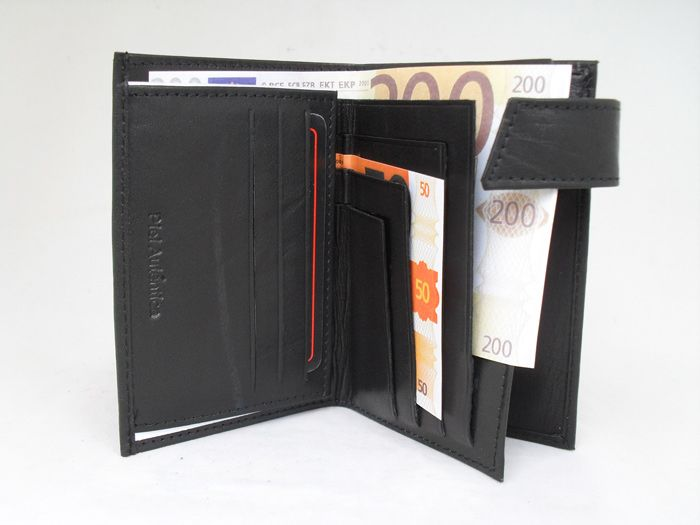monedero: (111, 53, 620, 484)
